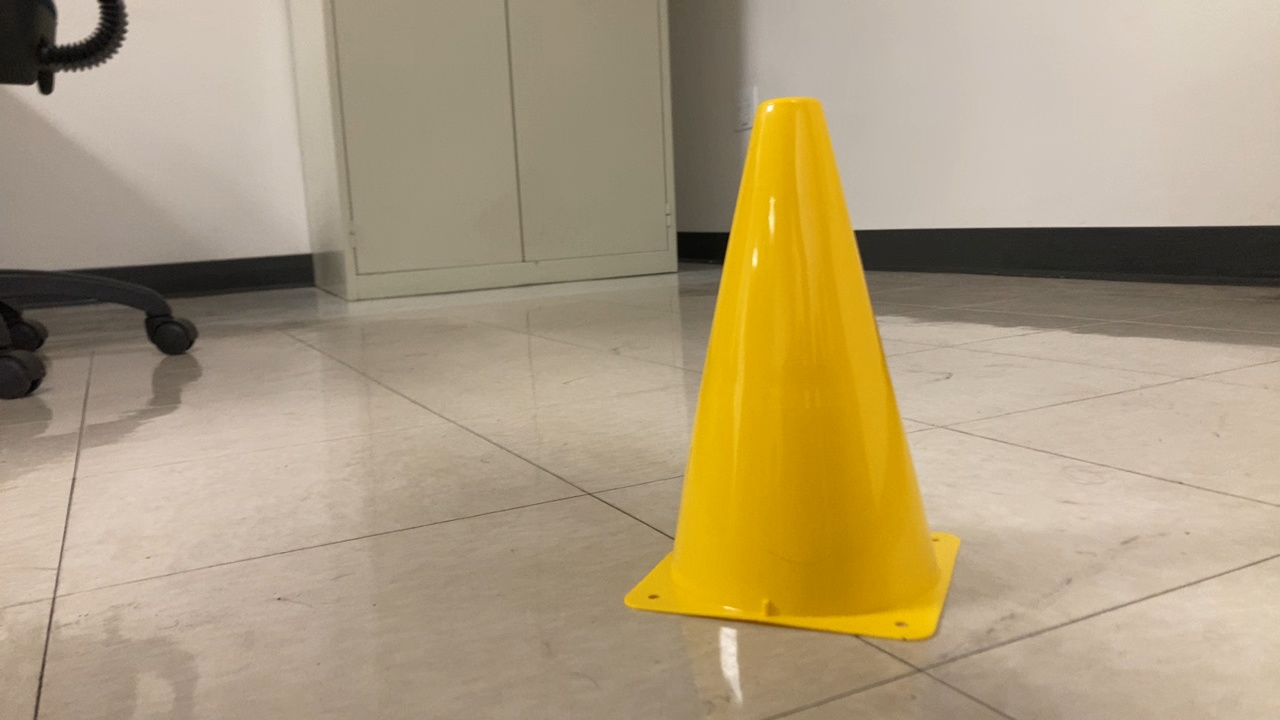yellow_cone: (605, 88, 975, 653)
